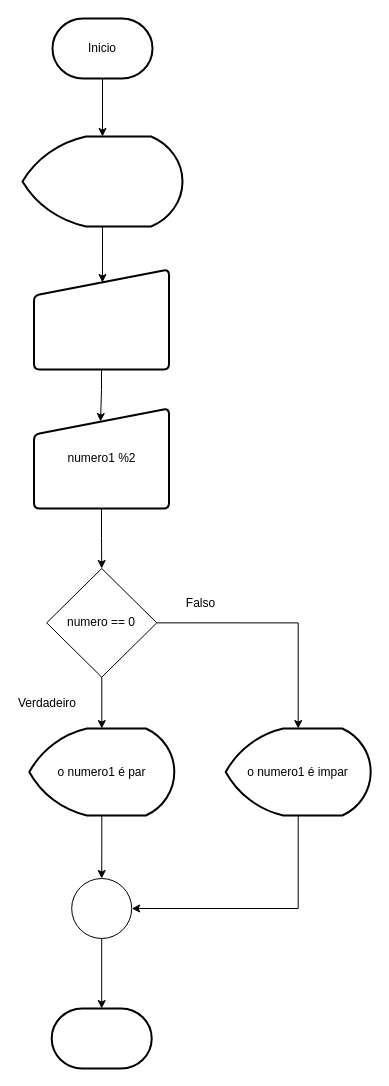
The diagram is 389 pixels wide and 1086 high, and some of its shapes have lost their labels. The centre of each missing label's shape, as x and y in pixels:
"digite um numero" goes at [102,181].
"Fim" goes at [101,1038].
"numero1" goes at [101,319].
